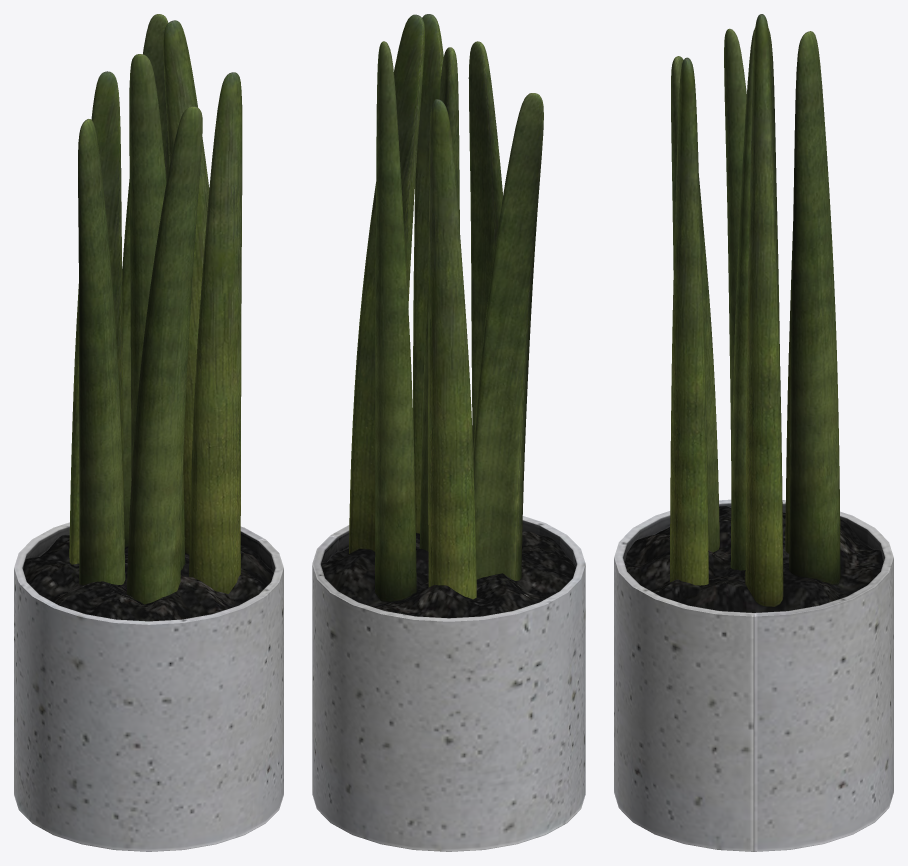
File: Sansewieria_h1k.DAE
3 renders of one model, left to right at view 1: azimuth 30°, elevation 25°; view 2: azimuth 150°, elevation 25°; view 3: azimuth 270°, elevation 25°, orthographic. The views are drawn at different scales.
Visible parts, largest first — view 1: Sansewieria; view 2: Sansewieria; view 3: Sansewieria.
Part boxes in pixels (box(x1,y1,x2,y2)): Sansewieria: box(14, 14, 283, 851); Sansewieria: box(312, 14, 585, 851); Sansewieria: box(614, 14, 893, 851).
Bounding box in the file's own units: 13.91 × 43.48 × 13.91.
1 material, 1 textured.
